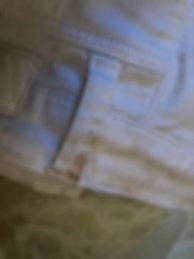earth: (118, 146, 149, 164), (68, 151, 87, 177), (87, 131, 109, 150), (166, 166, 186, 180)
